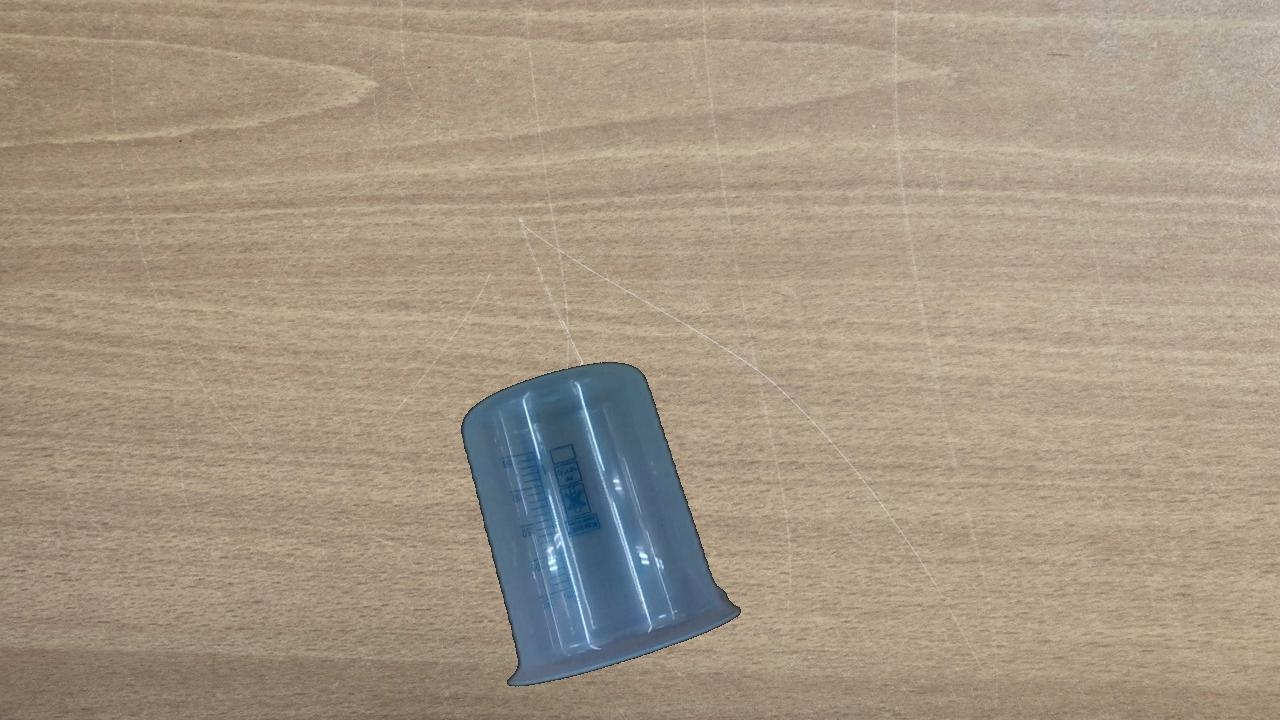cup: (459, 358, 740, 689)
